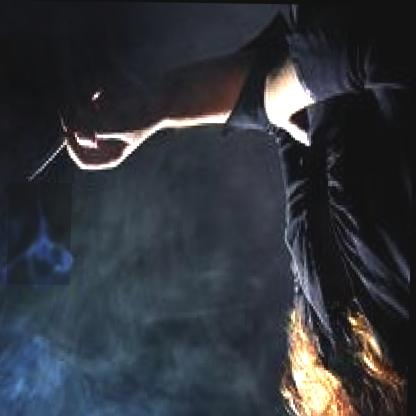smoke: (8, 182, 73, 285)
